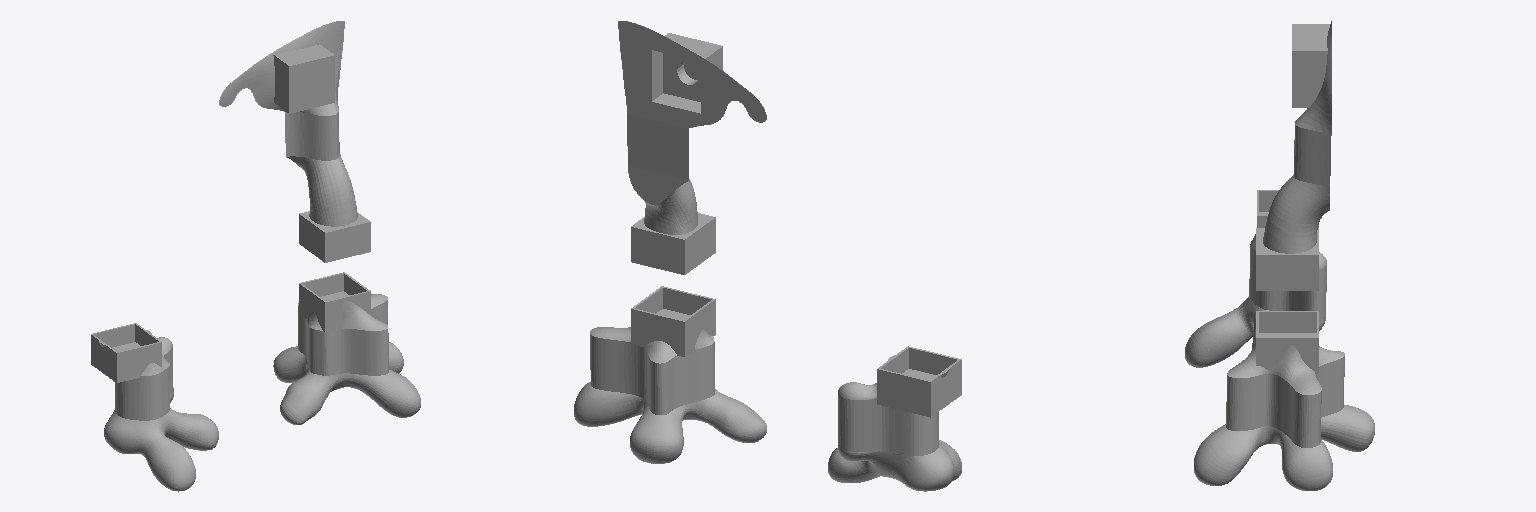
robot.urdf — FrogBot2_top-FrogBot2-z-9_bottom-FrogBot2-z-9:
<?xml version="1.0" ?>
<robot name="FrogBot2_top-FrogBot2-z-9_bottom-FrogBot2-z-9">

<material name="pla_5_percent_infill">
  <color rgba="0.700 0.700 0.700 1.000"/>
</material>

<link name="base_link">
  <inertial>
    <origin xyz="0 0 0" rpy="0 0 0"/>
    <mass value="1.3341577719423"/>
    <inertia ixx="0.0046797925109551535" iyy="0.011134478382956134" izz="0.010477176548232365" ixy="0.00012495104989682066" iyz="8.213962567094231e-05" ixz="-0.002474445058077273"/>
  </inertial>
  <visual>
    <origin xyz="0 0 0" rpy="0 0 0"/>
    <geometry>
      <mesh filename="simple_meshes/base_link.stl" scale="0.001 0.001 0.001"/>
    </geometry>
    <material name="pla_5_percent_infill"/>
  </visual>
  <collision>
    <origin xyz="0 0 0" rpy="0 0 0"/>
    <geometry>
      <mesh filename="simple_meshes/base_link.stl" scale="0.001 0.001 0.001"/>
    </geometry>
  </collision>
</link>

<link name="body_1_0_1">
  <inertial>
    <origin xyz="-0.053395 -0.09218 -0.023663" rpy="0 0 0"/>
    <mass value="0.07047352674434013"/>
    <inertia ixx="0.0001485170882231221" iyy="0.00015185883684204222" izz="2.212722066431477e-05" ixy="-9.465389928483333e-08" iyz="8.143670634996707e-06" ixz="1.093116901144947e-05"/>
  </inertial>
  <visual>
    <origin xyz="-0.053395 -0.09218 -0.023663" rpy="0 0 0"/>
    <geometry>
      <mesh filename="simple_meshes/body_1_0_1.stl" scale="0.001 0.001 0.001"/>
    </geometry>
    <material name="pla_5_percent_infill"/>
  </visual>
  <collision>
    <origin xyz="-0.053395 -0.09218 -0.023663" rpy="0 0 0"/>
    <geometry>
      <mesh filename="simple_meshes/body_1_0_1.stl" scale="0.001 0.001 0.001"/>
    </geometry>
  </collision>
</link>

<link name="body_1_1_1">
  <inertial>
    <origin xyz="0.095032 -0.09218 0.005345" rpy="0 0 0"/>
    <mass value="0.16169543227824865"/>
    <inertia ixx="0.00019569160791942054" iyy="0.00028695523909591904" izz="0.0001507779001767972" ixy="6.760663273315797e-06" iyz="8.20462641714227e-06" ixz="-6.330432505381191e-05"/>
  </inertial>
  <visual>
    <origin xyz="0.095032 -0.09218 0.005345" rpy="0 0 0"/>
    <geometry>
      <mesh filename="simple_meshes/body_1_1_1.stl" scale="0.001 0.001 0.001"/>
    </geometry>
    <material name="pla_5_percent_infill"/>
  </visual>
  <collision>
    <origin xyz="0.095032 -0.09218 0.005345" rpy="0 0 0"/>
    <geometry>
      <mesh filename="simple_meshes/body_1_1_1.stl" scale="0.001 0.001 0.001"/>
    </geometry>
  </collision>
</link>

<link name="body_1_2_1">
  <inertial>
    <origin xyz="-0.041549 0.09218 -0.043945" rpy="0 0 0"/>
    <mass value="0.07444883364373175"/>
    <inertia ixx="0.00022955391745748495" iyy="0.00023440511022529572" izz="3.3182471217816376e-05" ixy="1.2989943216764818e-06" iyz="-2.6274185349306554e-05" ixz="2.5826743049223394e-05"/>
  </inertial>
  <visual>
    <origin xyz="-0.041549 0.09218 -0.043945" rpy="0 0 0"/>
    <geometry>
      <mesh filename="simple_meshes/body_1_2_1.stl" scale="0.001 0.001 0.001"/>
    </geometry>
    <material name="pla_5_percent_infill"/>
  </visual>
  <collision>
    <origin xyz="-0.041549 0.09218 -0.043945" rpy="0 0 0"/>
    <geometry>
      <mesh filename="simple_meshes/body_1_2_1.stl" scale="0.001 0.001 0.001"/>
    </geometry>
  </collision>
</link>

<link name="body_1_3_1">
  <inertial>
    <origin xyz="0.087142 0.09218 -0.003397" rpy="0 0 0"/>
    <mass value="0.16608898560599442"/>
    <inertia ixx="0.00020185944955806306" iyy="0.0002914213962494257" izz="0.00015346728422620335" ixy="-1.208330255057441e-05" iyz="-8.368867738856815e-06" ixz="-6.355684857694015e-05"/>
  </inertial>
  <visual>
    <origin xyz="0.087142 0.09218 -0.003397" rpy="0 0 0"/>
    <geometry>
      <mesh filename="simple_meshes/body_1_3_1.stl" scale="0.001 0.001 0.001"/>
    </geometry>
    <material name="pla_5_percent_infill"/>
  </visual>
  <collision>
    <origin xyz="0.087142 0.09218 -0.003397" rpy="0 0 0"/>
    <geometry>
      <mesh filename="simple_meshes/body_1_3_1.stl" scale="0.001 0.001 0.001"/>
    </geometry>
  </collision>
</link>

<link name="body_2_0_1">
  <inertial>
    <origin xyz="-0.065654 -0.139685 0.139558" rpy="0 0 0"/>
    <mass value="0.18849795289272245"/>
    <inertia ixx="0.0002717618898924277" iyy="0.0002669204037362219" izz="0.0002964282151715694" ixy="-2.4950427295666443e-05" iyz="1.5797448552745848e-05" ixz="1.193773639460334e-05"/>
  </inertial>
  <visual>
    <origin xyz="-0.065654 -0.139685 0.139558" rpy="0 0 0"/>
    <geometry>
      <mesh filename="simple_meshes/body_2_0_1.stl" scale="0.001 0.001 0.001"/>
    </geometry>
    <material name="pla_5_percent_infill"/>
  </visual>
  <collision>
    <origin xyz="-0.065654 -0.139685 0.139558" rpy="0 0 0"/>
    <geometry>
      <mesh filename="simple_meshes/body_2_0_1.stl" scale="0.001 0.001 0.001"/>
    </geometry>
  </collision>
</link>

<link name="body_2_1_1">
  <inertial>
    <origin xyz="0.15751 -0.143533 0.139558" rpy="0 0 0"/>
    <mass value="0.12364884708803942"/>
    <inertia ixx="0.00015748674194457878" iyy="0.000179287636287679" izz="0.00011869243835818232" ixy="-1.738755164189254e-07" iyz="3.531295923124046e-05" ixz="1.94716334733034e-05"/>
  </inertial>
  <visual>
    <origin xyz="0.15751 -0.143533 0.139558" rpy="0 0 0"/>
    <geometry>
      <mesh filename="simple_meshes/body_2_1_1.stl" scale="0.001 0.001 0.001"/>
    </geometry>
    <material name="pla_5_percent_infill"/>
  </visual>
  <collision>
    <origin xyz="0.15751 -0.143533 0.139558" rpy="0 0 0"/>
    <geometry>
      <mesh filename="simple_meshes/body_2_1_1.stl" scale="0.001 0.001 0.001"/>
    </geometry>
  </collision>
</link>

<link name="body_2_2_1">
  <inertial>
    <origin xyz="-0.061161 0.145934 0.139558" rpy="0 0 0"/>
    <mass value="0.16577277985741495"/>
    <inertia ixx="0.00022824677288353634" iyy="0.00024206542414671045" izz="0.00024975230873802365" ixy="1.0894944802603999e-05" iyz="-6.9462009048898085e-06" ixz="2.4824213775949747e-06"/>
  </inertial>
  <visual>
    <origin xyz="-0.061161 0.145934 0.139558" rpy="0 0 0"/>
    <geometry>
      <mesh filename="simple_meshes/body_2_2_1.stl" scale="0.001 0.001 0.001"/>
    </geometry>
    <material name="pla_5_percent_infill"/>
  </visual>
  <collision>
    <origin xyz="-0.061161 0.145934 0.139558" rpy="0 0 0"/>
    <geometry>
      <mesh filename="simple_meshes/body_2_2_1.stl" scale="0.001 0.001 0.001"/>
    </geometry>
  </collision>
</link>

<link name="body_2_3_1">
  <inertial>
    <origin xyz="0.160089 0.145768 0.139558" rpy="0 0 0"/>
    <mass value="0.11474808622742036"/>
    <inertia ixx="0.00016511608655058602" iyy="0.0001715925421280854" izz="0.00011594220202844167" ixy="-6.646067416518891e-06" iyz="-4.1867380452614844e-05" ixz="2.0342538535847443e-05"/>
  </inertial>
  <visual>
    <origin xyz="0.160089 0.145768 0.139558" rpy="0 0 0"/>
    <geometry>
      <mesh filename="simple_meshes/body_2_3_1.stl" scale="0.001 0.001 0.001"/>
    </geometry>
    <material name="pla_5_percent_infill"/>
  </visual>
  <collision>
    <origin xyz="0.160089 0.145768 0.139558" rpy="0 0 0"/>
    <geometry>
      <mesh filename="simple_meshes/body_2_3_1.stl" scale="0.001 0.001 0.001"/>
    </geometry>
  </collision>
</link>

<joint name="joint_1_0" type="revolute">
  <origin xyz="0.053395 0.09218 0.023663" rpy="0 0 0"/>
  <parent link="base_link"/>
  <child link="body_1_0_1"/>
  <axis xyz="0.0 1.0 0.0"/>
  <limit upper="1.2" lower="-1.2" effort="3.8" velocity="5.4"/>
</joint>
<transmission name="joint_1_0_tran">
  <type>transmission_interface/SimpleTransmission</type>
  <joint name="joint_1_0">
    <hardwareInterface>PositionJointInterface</hardwareInterface>
  </joint>
  <actuator name="joint_1_0_actr">
    <hardwareInterface>PositionJointInterface</hardwareInterface>
    <mechanicalReduction>1</mechanicalReduction>
  </actuator>
</transmission>

<joint name="joint_1_1" type="revolute">
  <origin xyz="-0.095032 0.09218 -0.005345" rpy="0 0 0"/>
  <parent link="base_link"/>
  <child link="body_1_1_1"/>
  <axis xyz="0.0 1.0 0.0"/>
  <limit upper="1.2" lower="-1.2" effort="3.8" velocity="5.4"/>
</joint>
<transmission name="joint_1_1_tran">
  <type>transmission_interface/SimpleTransmission</type>
  <joint name="joint_1_1">
    <hardwareInterface>PositionJointInterface</hardwareInterface>
  </joint>
  <actuator name="joint_1_1_actr">
    <hardwareInterface>PositionJointInterface</hardwareInterface>
    <mechanicalReduction>1</mechanicalReduction>
  </actuator>
</transmission>

<joint name="joint_1_2" type="revolute">
  <origin xyz="0.041549 -0.09218 0.043945" rpy="0 0 0"/>
  <parent link="base_link"/>
  <child link="body_1_2_1"/>
  <axis xyz="0.0 1.0 0.0"/>
  <limit upper="1.2" lower="-1.2" effort="3.8" velocity="5.4"/>
</joint>
<transmission name="joint_1_2_tran">
  <type>transmission_interface/SimpleTransmission</type>
  <joint name="joint_1_2">
    <hardwareInterface>PositionJointInterface</hardwareInterface>
  </joint>
  <actuator name="joint_1_2_actr">
    <hardwareInterface>PositionJointInterface</hardwareInterface>
    <mechanicalReduction>1</mechanicalReduction>
  </actuator>
</transmission>

<joint name="joint_1_3" type="revolute">
  <origin xyz="-0.087142 -0.09218 0.003397" rpy="0 0 0"/>
  <parent link="base_link"/>
  <child link="body_1_3_1"/>
  <axis xyz="0.0 1.0 0.0"/>
  <limit upper="1.2" lower="-1.2" effort="3.8" velocity="5.4"/>
</joint>
<transmission name="joint_1_3_tran">
  <type>transmission_interface/SimpleTransmission</type>
  <joint name="joint_1_3">
    <hardwareInterface>PositionJointInterface</hardwareInterface>
  </joint>
  <actuator name="joint_1_3_actr">
    <hardwareInterface>PositionJointInterface</hardwareInterface>
    <mechanicalReduction>1</mechanicalReduction>
  </actuator>
</transmission>

<joint name="joint_2_0" type="revolute">
  <origin xyz="0.012259 0.047505 -0.163221" rpy="0 0 0"/>
  <parent link="body_1_0_1"/>
  <child link="body_2_0_1"/>
  <axis xyz="0.0 0.0 1.0"/>
  <limit upper="1.2" lower="-1.2" effort="3.8" velocity="5.4"/>
</joint>
<transmission name="joint_2_0_tran">
  <type>transmission_interface/SimpleTransmission</type>
  <joint name="joint_2_0">
    <hardwareInterface>PositionJointInterface</hardwareInterface>
  </joint>
  <actuator name="joint_2_0_actr">
    <hardwareInterface>PositionJointInterface</hardwareInterface>
    <mechanicalReduction>1</mechanicalReduction>
  </actuator>
</transmission>

<joint name="joint_2_1" type="revolute">
  <origin xyz="-0.062478 0.051353 -0.134213" rpy="0 0 0"/>
  <parent link="body_1_1_1"/>
  <child link="body_2_1_1"/>
  <axis xyz="0.0 0.0 1.0"/>
  <limit upper="1.2" lower="-1.2" effort="3.8" velocity="5.4"/>
</joint>
<transmission name="joint_2_1_tran">
  <type>transmission_interface/SimpleTransmission</type>
  <joint name="joint_2_1">
    <hardwareInterface>PositionJointInterface</hardwareInterface>
  </joint>
  <actuator name="joint_2_1_actr">
    <hardwareInterface>PositionJointInterface</hardwareInterface>
    <mechanicalReduction>1</mechanicalReduction>
  </actuator>
</transmission>

<joint name="joint_2_2" type="revolute">
  <origin xyz="0.019612 -0.053754 -0.183503" rpy="0 0 0"/>
  <parent link="body_1_2_1"/>
  <child link="body_2_2_1"/>
  <axis xyz="0.0 0.0 1.0"/>
  <limit upper="1.2" lower="-1.2" effort="3.8" velocity="5.4"/>
</joint>
<transmission name="joint_2_2_tran">
  <type>transmission_interface/SimpleTransmission</type>
  <joint name="joint_2_2">
    <hardwareInterface>PositionJointInterface</hardwareInterface>
  </joint>
  <actuator name="joint_2_2_actr">
    <hardwareInterface>PositionJointInterface</hardwareInterface>
    <mechanicalReduction>1</mechanicalReduction>
  </actuator>
</transmission>

<joint name="joint_2_3" type="revolute">
  <origin xyz="-0.072947 -0.053588 -0.142955" rpy="0 0 0"/>
  <parent link="body_1_3_1"/>
  <child link="body_2_3_1"/>
  <axis xyz="0.0 0.0 1.0"/>
  <limit upper="1.2" lower="-1.2" effort="3.8" velocity="5.4"/>
</joint>
<transmission name="joint_2_3_tran">
  <type>transmission_interface/SimpleTransmission</type>
  <joint name="joint_2_3">
    <hardwareInterface>PositionJointInterface</hardwareInterface>
  </joint>
  <actuator name="joint_2_3_actr">
    <hardwareInterface>PositionJointInterface</hardwareInterface>
    <mechanicalReduction>1</mechanicalReduction>
  </actuator>
</transmission>

</robot>

--- What the picture shows (computed from the rendered views, not written in the file) ---
3 views of the same robot in one strip: view 1: azimuth 30°, elevation 25°; view 2: azimuth 150°, elevation 25°; view 3: azimuth 270°, elevation 25° (orthographic).
Robot: FrogBot2_top-FrogBot2-z-9_bottom-FrogBot2-z-9 — 9 links, 8 joints (8 revolute); root link base_link; default pose: every joint at zero.
Visible links, largest first — view 1: body_1_2_1, body_2_2_1, body_2_3_1; view 2: body_1_2_1, body_2_2_1, body_2_3_1; view 3: body_2_2_1, body_1_2_1, body_2_3_1.
Boxes of the visible links, x1=… form: body_1_2_1: x1=219, y1=21, x2=370, y2=262; body_2_2_1: x1=273, y1=272, x2=420, y2=424; body_2_3_1: x1=91, y1=323, x2=218, y2=491; body_1_2_1: x1=618, y1=21, x2=766, y2=274; body_2_2_1: x1=574, y1=286, x2=766, y2=463; body_2_3_1: x1=828, y1=346, x2=961, y2=491; body_2_2_1: x1=1194, y1=311, x2=1374, y2=490; body_1_2_1: x1=1256, y1=21, x2=1331, y2=290; body_2_3_1: x1=1185, y1=190, x2=1326, y2=367.
Bounding box of the posed robot: 0.324 × 0.1471 × 0.3811 m (x, y, z).
3 mesh visuals loaded from 9 distinct referenced files (3 binary STL); not drawn: 6 (reference not matched to a file when rendering).